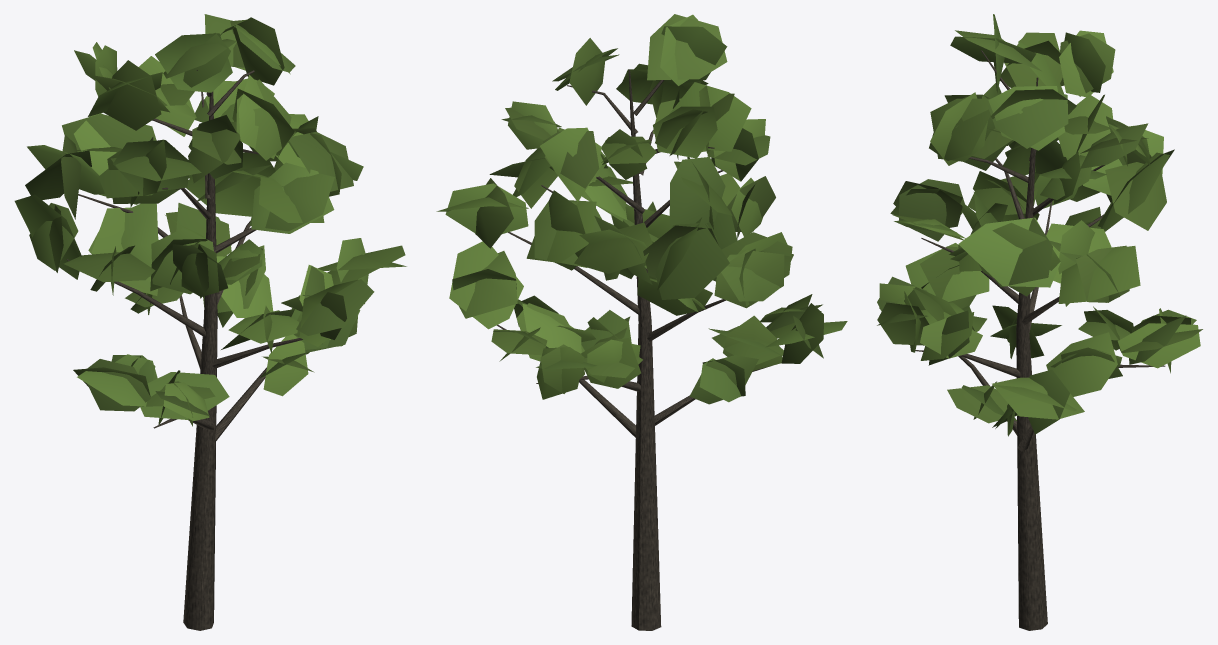
Rendered from broad_01_lod2.glb.
3 renders of one model, left to right at view 1: azimuth 30°, elevation 25°; view 2: azimuth 150°, elevation 25°; view 3: azimuth 270°, elevation 25°, orthographic. The views are drawn at different scales.
Parts seen in each view (by area): view 1: individual_curved_leaf_sprigs, retained_branches_0; view 2: individual_curved_leaf_sprigs, retained_branches_0; view 3: individual_curved_leaf_sprigs, retained_branches_0.
Boxes of the visible parts, x1,y1,x2,y2 form: individual_curved_leaf_sprigs: [14, 14, 406, 426]; retained_branches_0: [67, 70, 302, 630]; individual_curved_leaf_sprigs: [436, 14, 847, 404]; retained_branches_0: [497, 69, 770, 630]; individual_curved_leaf_sprigs: [877, 14, 1202, 436]; retained_branches_0: [915, 50, 1165, 630].
Bounding box in the file's own units: 6.64 × 10.7 × 5.36.
Materials: 2 (1 with a texture image).
